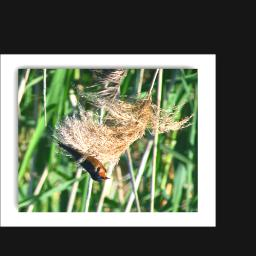Swallow: (52, 138, 113, 183)
